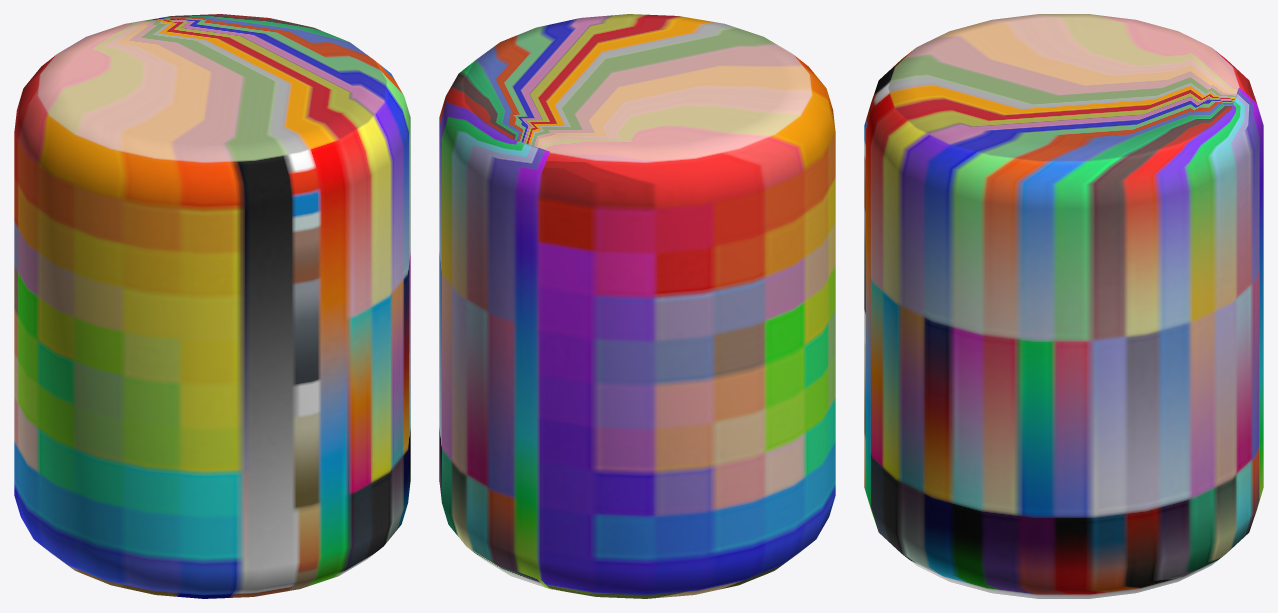
The model's file is TightCylinder.fbx.
3 renders of one model, left to right at view 1: azimuth 30°, elevation 25°; view 2: azimuth 150°, elevation 25°; view 3: azimuth 270°, elevation 25°, orthographic.
Parts seen in each view (by area): view 1: Cylinder.004; view 2: Cylinder.004; view 3: Cylinder.004.
Boxes of the visible parts, left/top/right/bottom form: Cylinder.004: left=14, top=14, right=410, bottom=598; Cylinder.004: left=439, top=14, right=835, bottom=598; Cylinder.004: left=864, top=14, right=1263, bottom=598.
Size of the model in its own units: 1.16 by 1.46 by 1.17.
